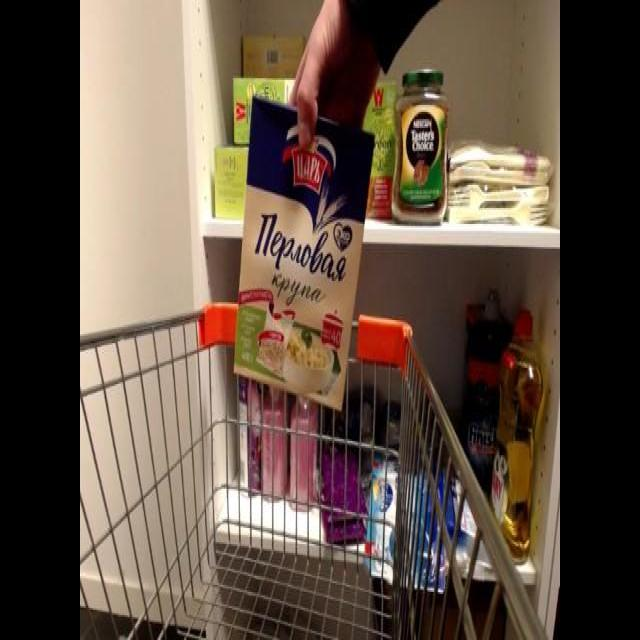Groats: (227, 89, 378, 419)
